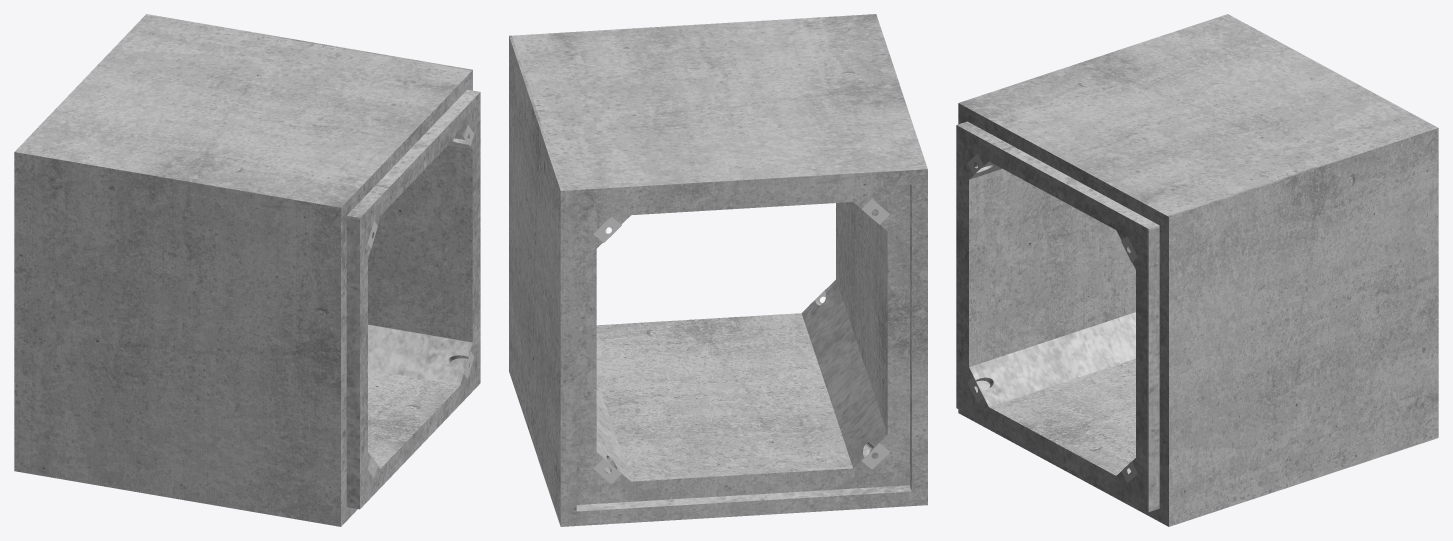
Rendered from SqareBlock.glb.
The picture shows the model from 3 angles, left to right: view 1: azimuth 30°, elevation 25°; view 2: azimuth 150°, elevation 25°; view 3: azimuth 270°, elevation 25°; orthographic projection. The views are drawn at different scales.
Visible parts, largest first — view 1: Plane.014; view 2: Plane.014; view 3: Plane.014.
Boxes of the visible parts, x1=… form: Plane.014: x1=14, y1=14, x2=480, y2=526; Plane.014: x1=509, y1=14, x2=927, y2=526; Plane.014: x1=956, y1=14, x2=1438, y2=526.
Size of the model in its own units: 2.61 by 1.86 by 2.62.
Materials: 2 (1 with a texture image).
